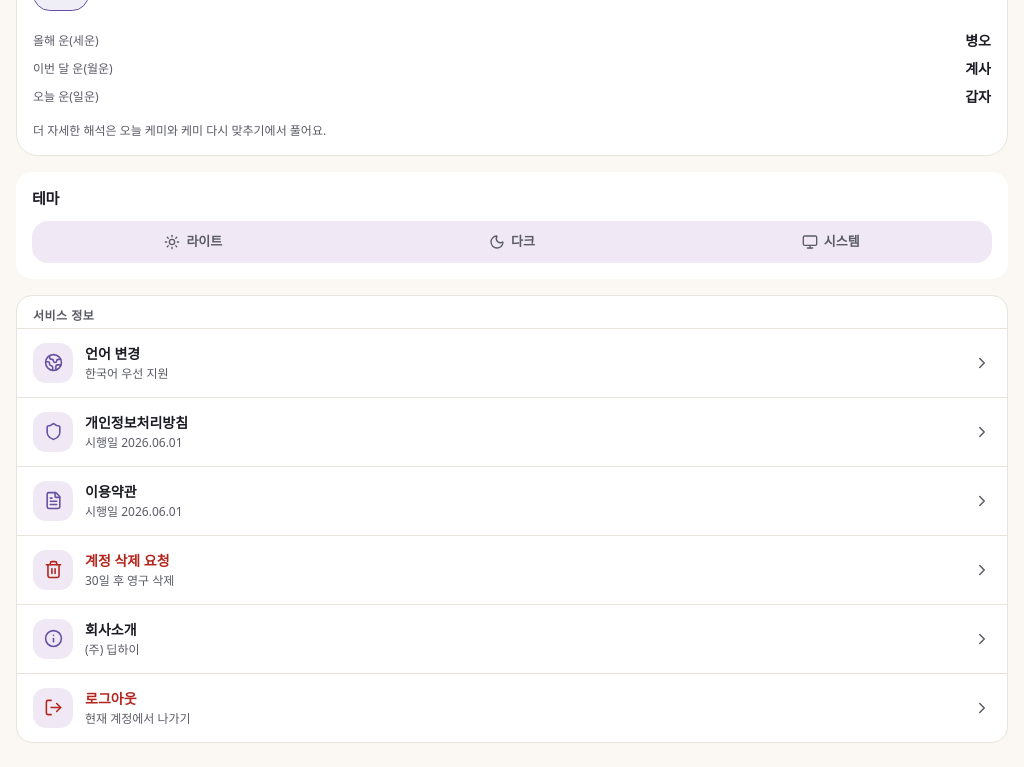
Test: MePage (내 프로필 화면) › 로그아웃 실패 시 현재 화면에 에러 문구를 보여준다
The width and height of the screenshot is (1024, 767).
(page scrolled)
Click the button "로그아웃 현재 계정에서 나가기": [53, 708] box x1=17 y1=672 x2=1007 y2=742
(page scrolled)
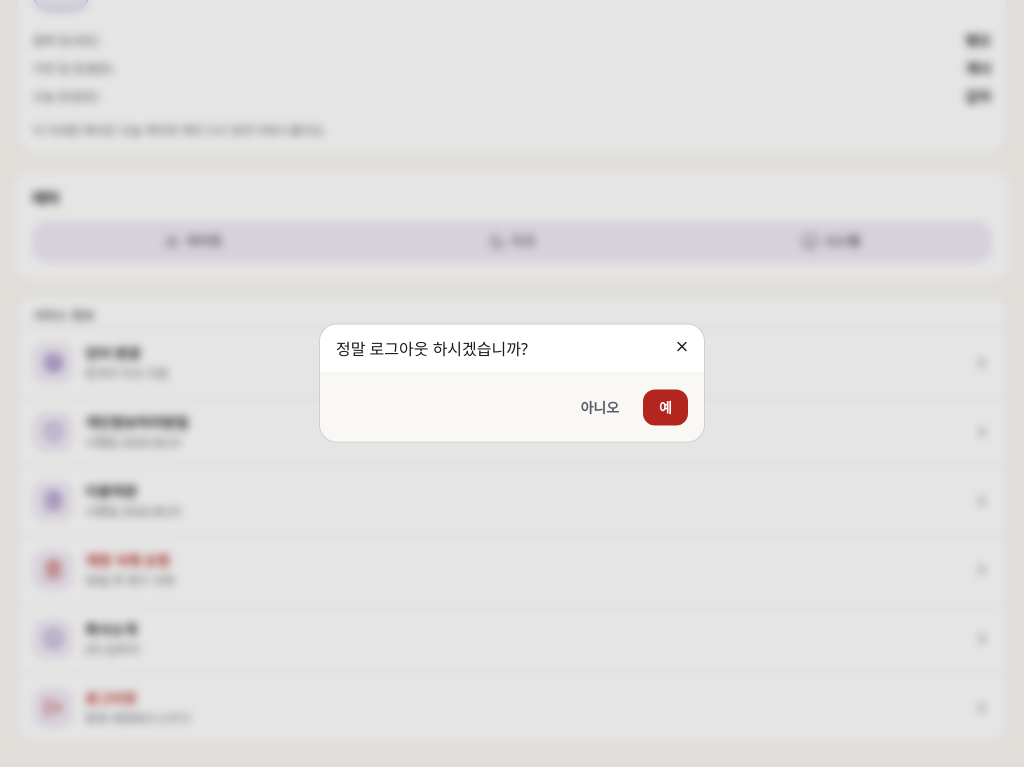
Check: the heading "정말 로그아웃 하시겠습니까?" is shown, box x1=336 y1=338 x2=528 y2=360
Click the button "예": [666, 408] box x1=643 y1=390 x2=688 y2=426
(page scrolled)
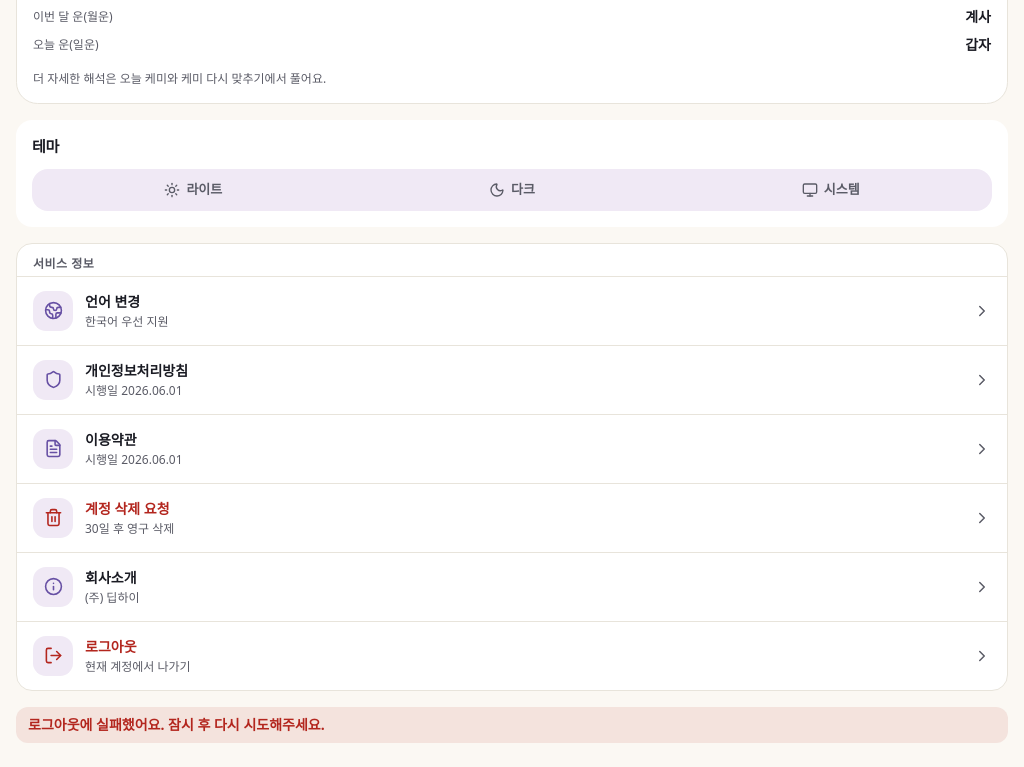
Check: the message reads "로그아웃에 실패했어요. 잠시 후 다시 시도해주세요.", box x1=28 y1=714 x2=325 y2=734
